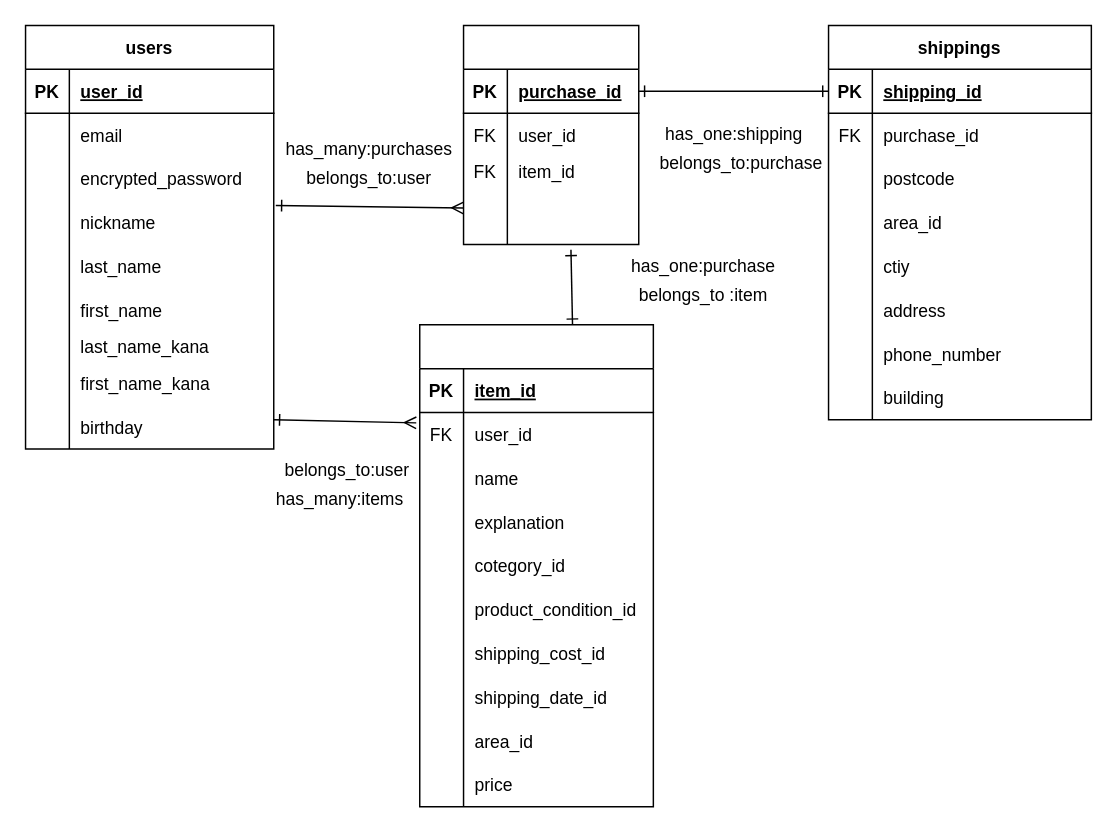
The diagram is 1117 pixels wide and 832 high, and some of its shapes have lost their labels. The shapes that lost their labels are listed below. From the top down, each one's box as (x1, y1, x2, y2) in pixels, then its label:
(462, 24, 639, 245): purchases
(418, 323, 653, 807): items
